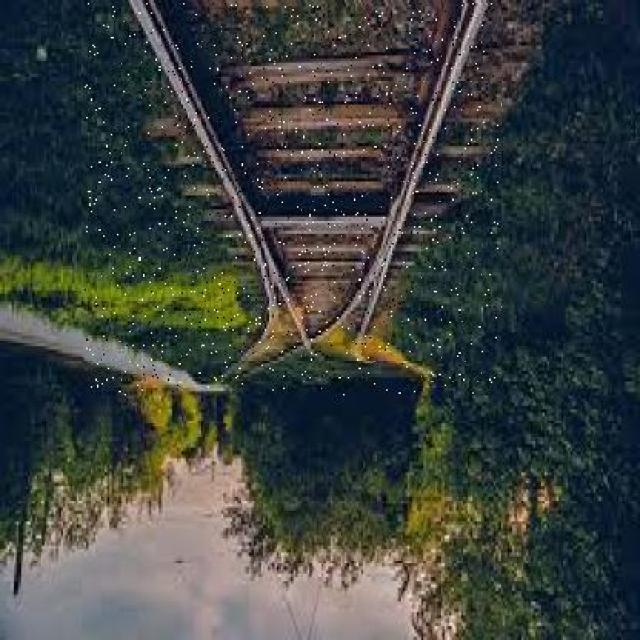rail: (85, 3, 501, 395)
